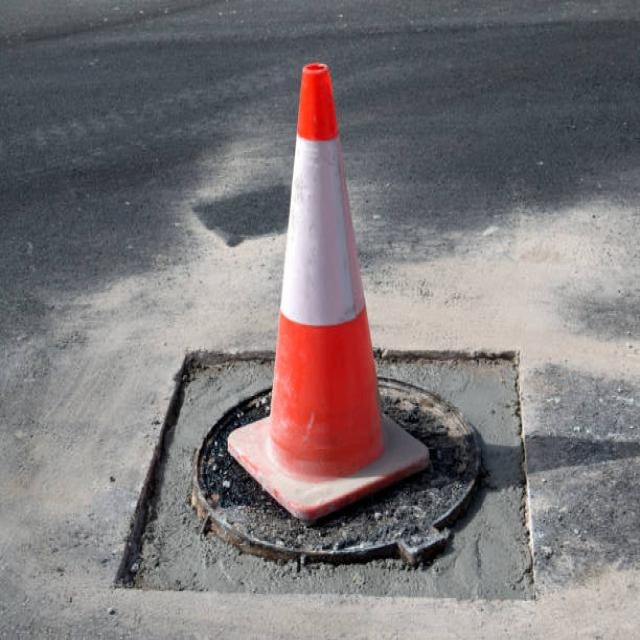Traffic Cone: (164, 23, 474, 563)
